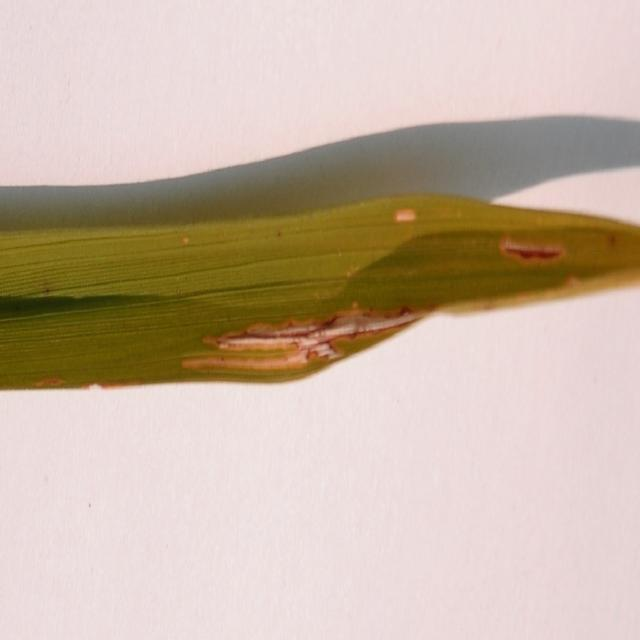Unhealthy: (181, 299, 429, 373), (499, 241, 566, 265), (34, 376, 66, 387), (396, 206, 414, 223), (183, 235, 190, 247)
